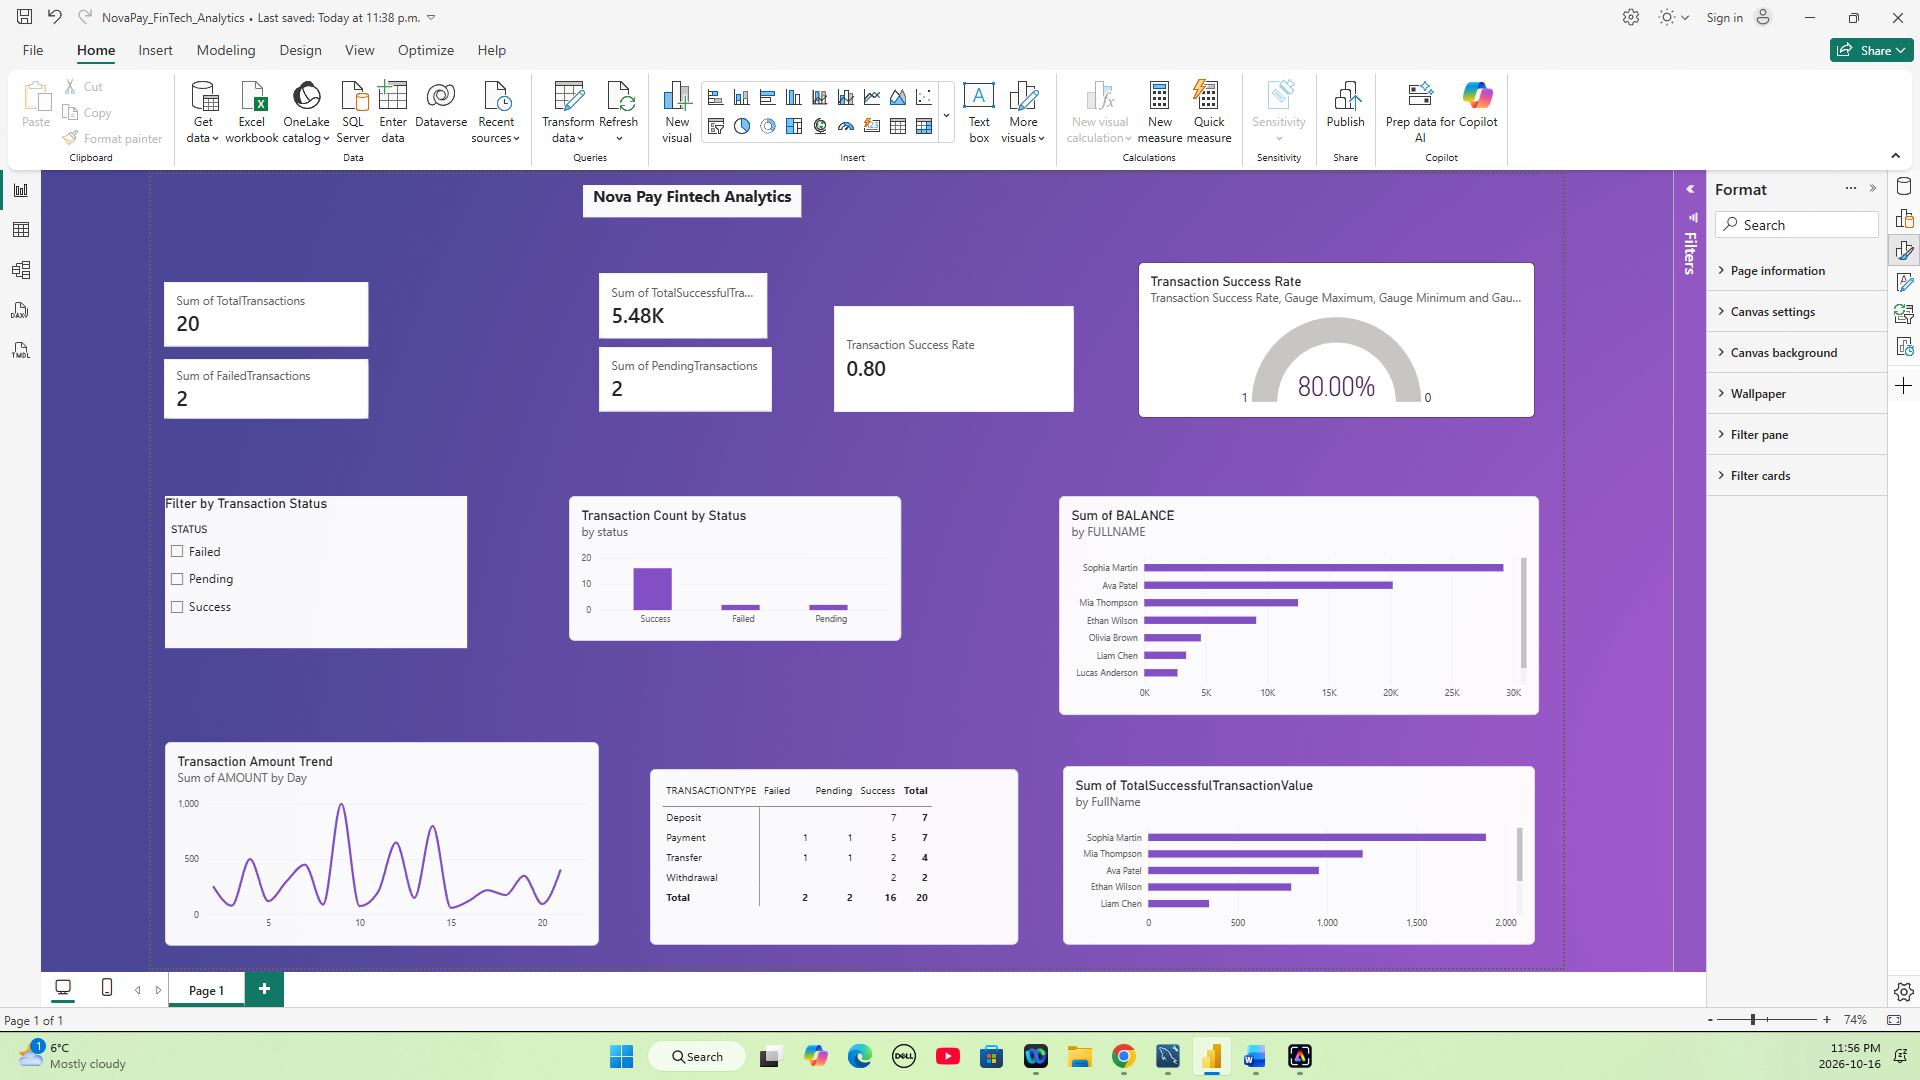

The page's visual inventory and layout, read from the dashboard file:
{"tool":"powerbi","page":{"name":"Page 1","canvas":[1920,1080],"ordinal":0},"visuals":[{"type":"cardVisual","fields":{"Data":["Sum(novapaydb vw_novapayaccountanalytics.TotalTransactions)"]},"box":[59.6,0,278.3,87.8],"z":0},{"type":"cardVisual","fields":{"Data":["Sum(novapaydb vw_novapayaccountanalytics.TotalSuccessfulTransactionValue)"]},"box":[429.1,0,228.6,89.5],"z":1000},{"type":"cardVisual","fields":{"Data":["Sum(novapaydb vw_novapayaccountanalytics.FailedTransactions)"]},"box":[59.6,124.2,278.3,81.2],"z":2000},{"type":"cardVisual","fields":{"Data":["Sum(novapaydb vw_novapayaccountanalytics.PendingTransactions)"]},"box":[422.4,124.2,235.2,87.8],"z":3000},{"type":"clusteredColumnChart","fields":{"Category":["novapaydb transactions.STATUS"],"Y":["CountNonNull(novapaydb transactions.TRANSACTIONID)"]},"box":[526.8,265.1,434,207.1],"z":4000},{"type":"clusteredBarChart","fields":{"Category":["novapaydb customers.FULLNAME"],"Y":["Sum(novapaydb accounts.BALANCE)"]},"box":[1227.5,288.2,511.9,304.8],"z":5000},{"type":"slicer","title":"Filter by Transaction Status","fields":{"Values":["novapaydb transactions.STATUS"]},"box":[31.5,265.1,391,207.1],"z":6000},{"type":"lineChart","title":"Transaction Amount Trend","fields":{"Category":["novapaydb transactions.TRANSACTIONDATE.Variation.Date Hierarchy.Day"],"Y":["Sum(novapaydb transactions.AMOUNT)"]},"box":[18.2,699.1,589.7,276.7],"z":7000},{"type":"cardVisual","fields":{"Data":["novapaydb transactions.Transaction Success Rate"]},"box":[796.8,0,327,150],"z":8000},{"type":"gauge","title":"Transaction Success Rate","fields":{"MaxValue":["novapaydb transactions.Gauge Minimum"],"MinValue":["novapaydb transactions.Gauge Maximum"],"TargetValue":["novapaydb transactions.Gauge Target"],"Y":["novapaydb transactions.Transaction Success Rate"]},"box":[1227.5,0,541.7,235.2],"z":8001},{"type":"pivotTable","fields":{"Columns":["novapaydb transactions.STATUS"],"Rows":["novapaydb transactions.TRANSACTIONTYPE"],"Values":["CountNonNull(novapaydb transactions.TRANSACTIONID)"]},"box":[669.3,699.1,485.4,231.9],"z":8002},{"type":"clusteredBarChart","fields":{"Category":["novapaydb vw_novapayaccountanalytics.FullName"],"Y":["Sum(novapaydb vw_novapayaccountanalytics.TotalSuccessfulTransactionValue)"]},"box":[1227.5,699.1,606.3,276.7],"z":8003}]}

Visuals, with their boxes on the page's 1920x1080 design canvas (x1, y1, x2, y2). These are canvas units, not pixel positions in the 1920x1080 screenshot, which may show the page scaled, cropped or inside an application window:
cardVisual - Sum(novapaydb vw_novapayaccountanalytics.TotalTransactions): rect(60, 0, 338, 88)
cardVisual - Sum(novapaydb vw_novapayaccountanalytics.TotalSuccessfulTransactionValue): rect(429, 0, 658, 90)
cardVisual - Sum(novapaydb vw_novapayaccountanalytics.FailedTransactions): rect(60, 124, 338, 205)
cardVisual - Sum(novapaydb vw_novapayaccountanalytics.PendingTransactions): rect(422, 124, 658, 212)
clusteredColumnChart - novapaydb transactions.STATUS x CountNonNull(novapaydb transactions.TRANSACTIONID): rect(527, 265, 961, 472)
clusteredBarChart - novapaydb customers.FULLNAME x Sum(novapaydb accounts.BALANCE): rect(1228, 288, 1739, 593)
"Filter by Transaction Status" slicer: rect(32, 265, 422, 472)
"Transaction Amount Trend" lineChart: rect(18, 699, 608, 976)
cardVisual - novapaydb transactions.Transaction Success Rate: rect(797, 0, 1124, 150)
"Transaction Success Rate" gauge: rect(1228, 0, 1769, 235)
pivotTable - novapaydb transactions.STATUS x novapaydb transactions.TRANSACTIONTYPE: rect(669, 699, 1155, 931)
clusteredBarChart - novapaydb vw_novapayaccountanalytics.FullName x Sum(novapaydb vw_novapayaccountanalytics.TotalSuccessfulTransactionValue): rect(1228, 699, 1834, 976)
